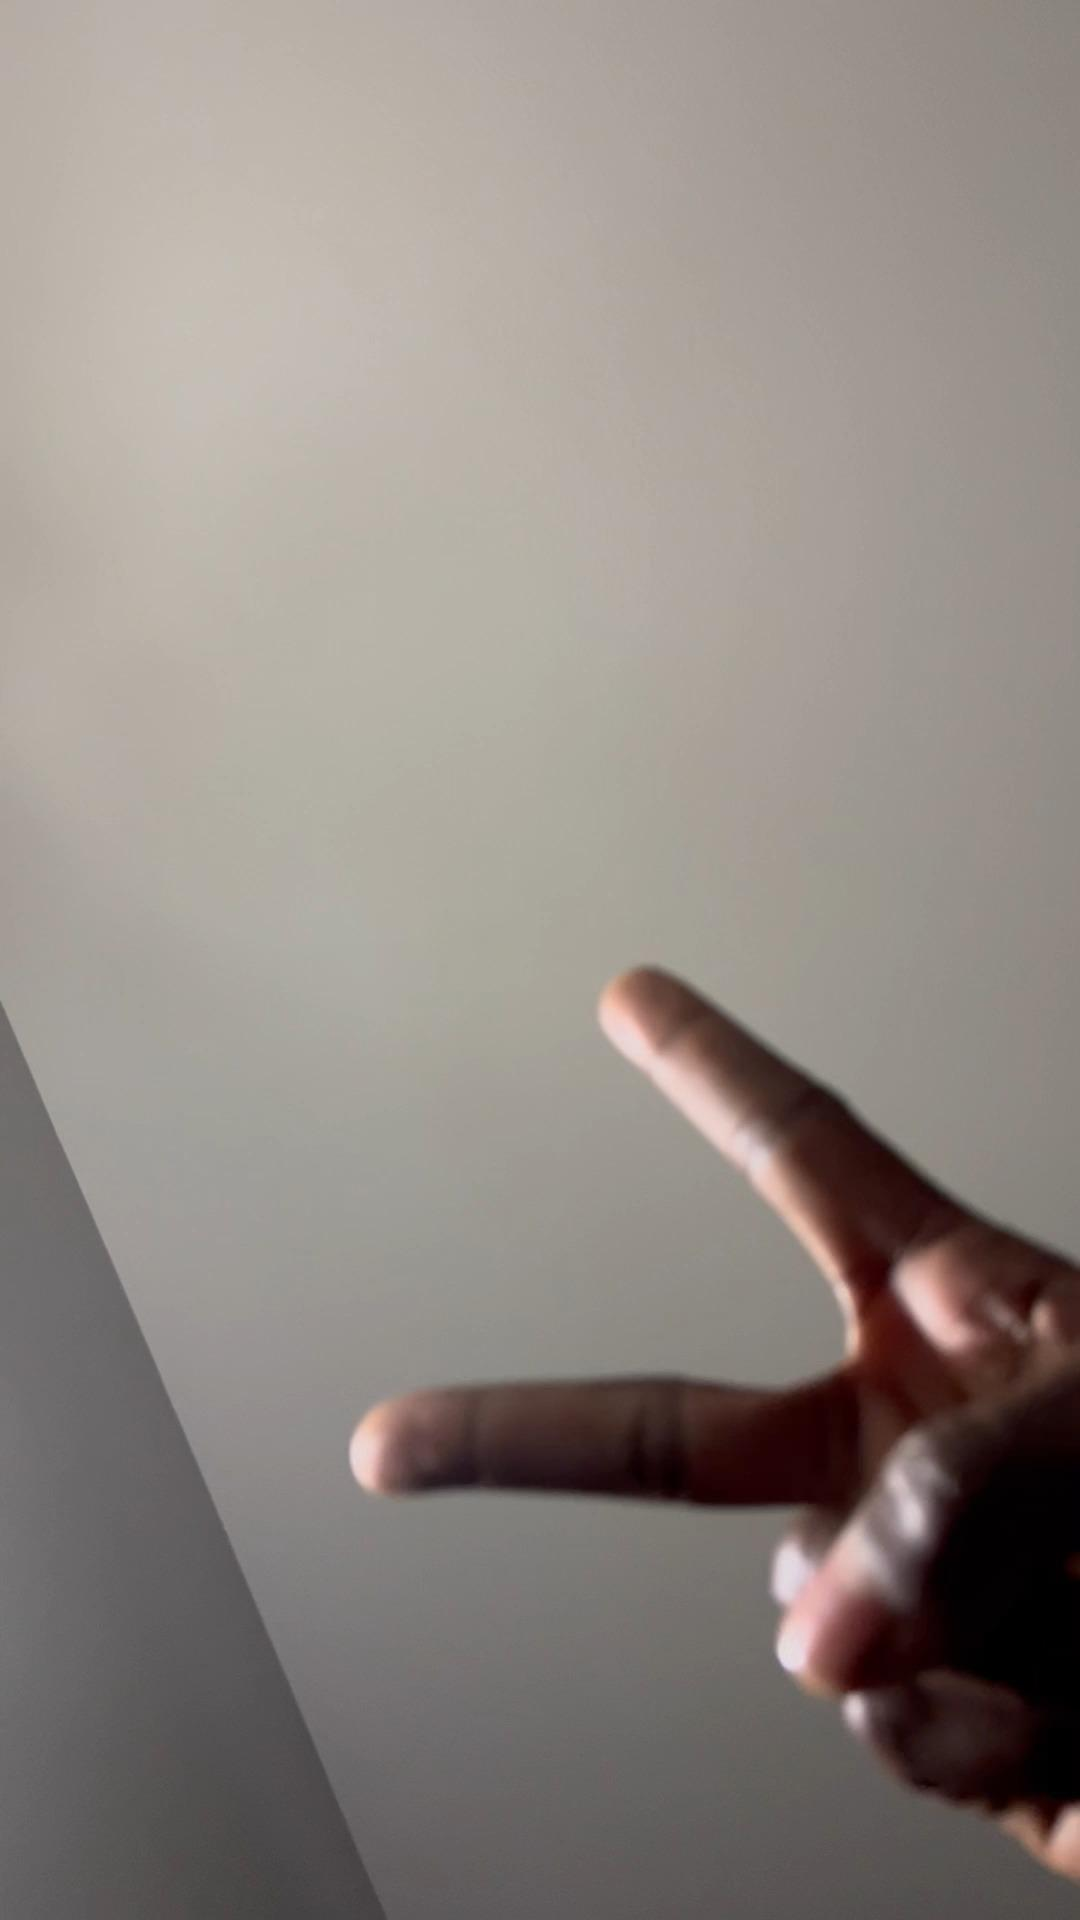Scissors: (340, 956, 1080, 1882)
